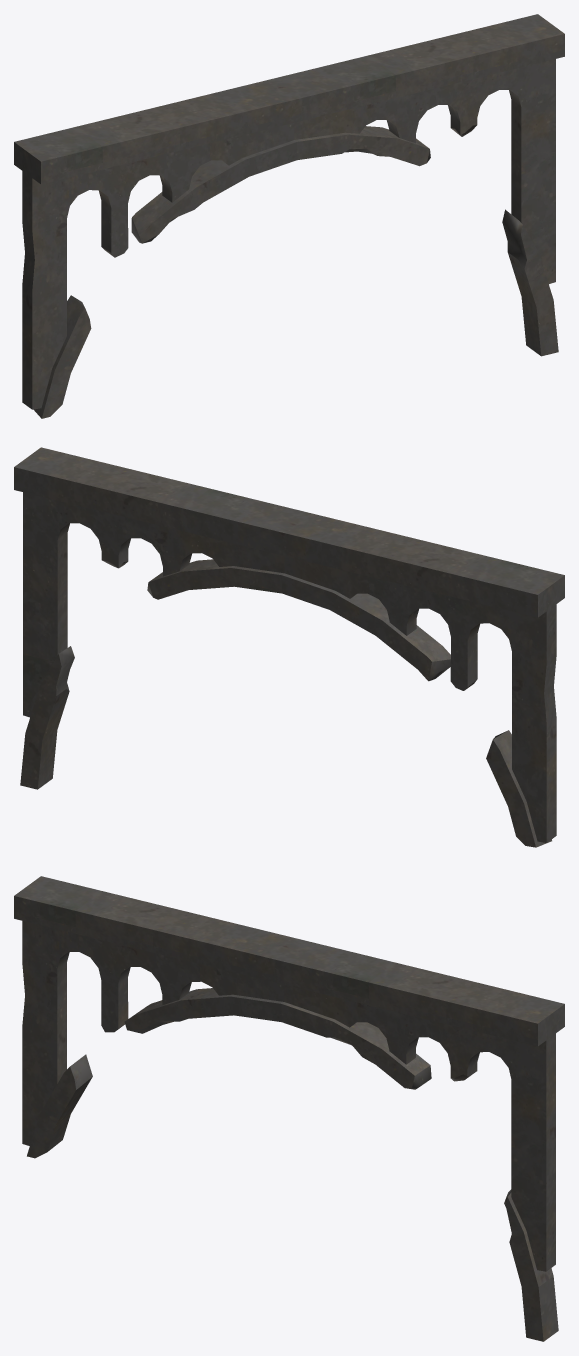
Rendered from SM_Qiao04.glb.
3 renders of one model, top to bottom at view 1: azimuth 30°, elevation 25°; view 2: azimuth 150°, elevation 25°; view 3: azimuth 330°, elevation 25°, orthographic.
Visible parts, largest first — view 1: SM_Qiao04.001; view 2: SM_Qiao04.001; view 3: SM_Qiao04.001.
Part boxes in pixels (x1,y1,x2,y2): SM_Qiao04.001: (14,14,564,418); SM_Qiao04.001: (14,447,564,847); SM_Qiao04.001: (14,876,564,1341).
Bounding box in the file's own units: 3943 × 2319 × 353.
1 material, 1 textured.
